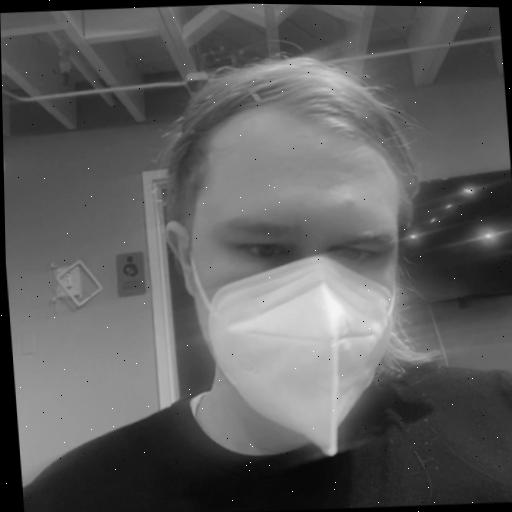mask: (101, 44, 436, 473)
